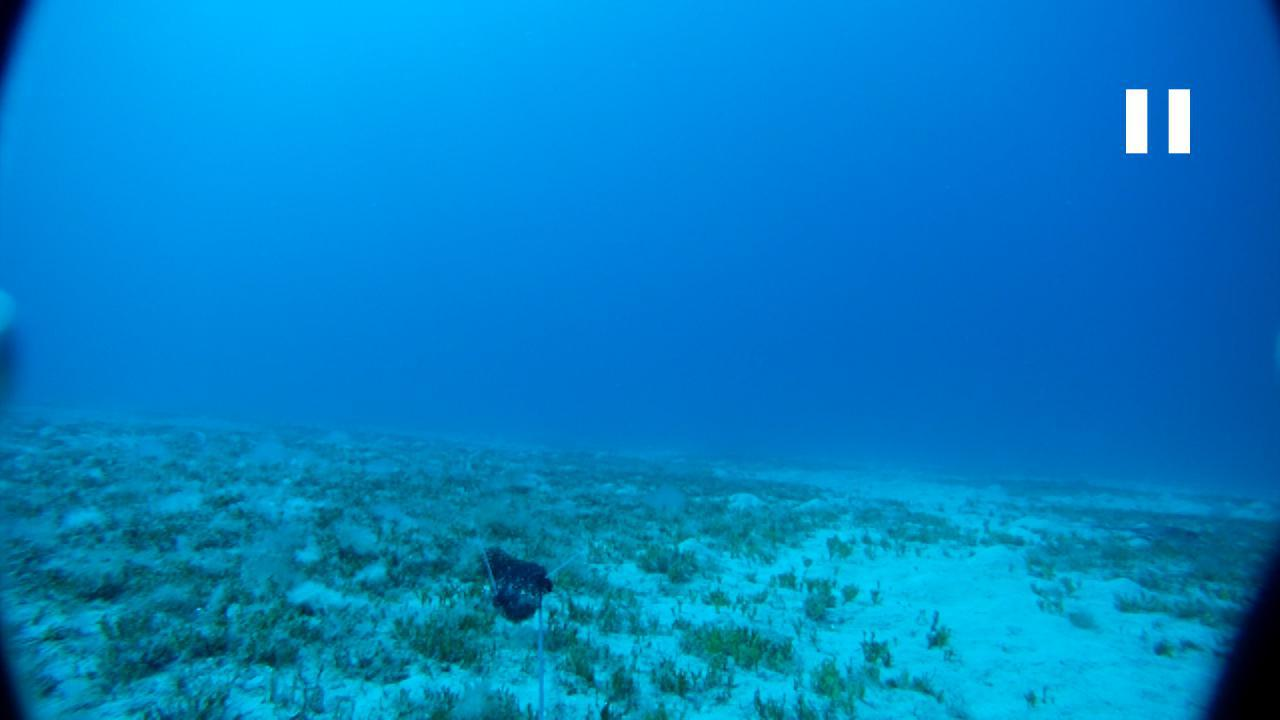dasyatis: (1086, 522, 1214, 544)
